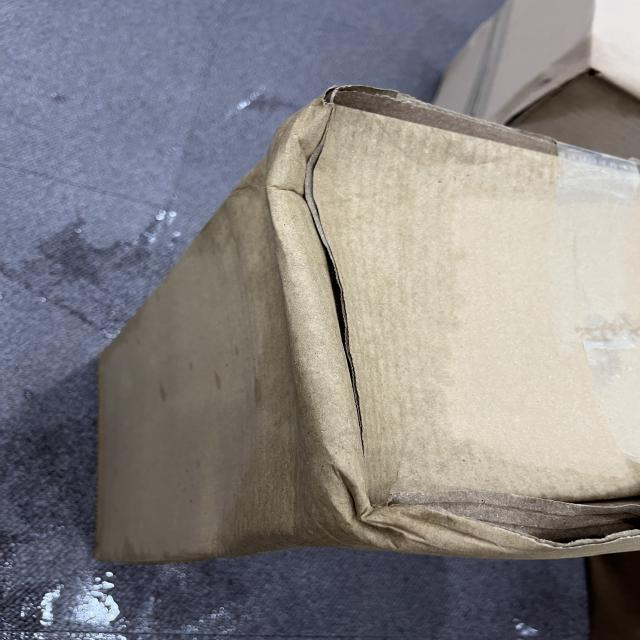wet: (218, 148, 448, 548)
